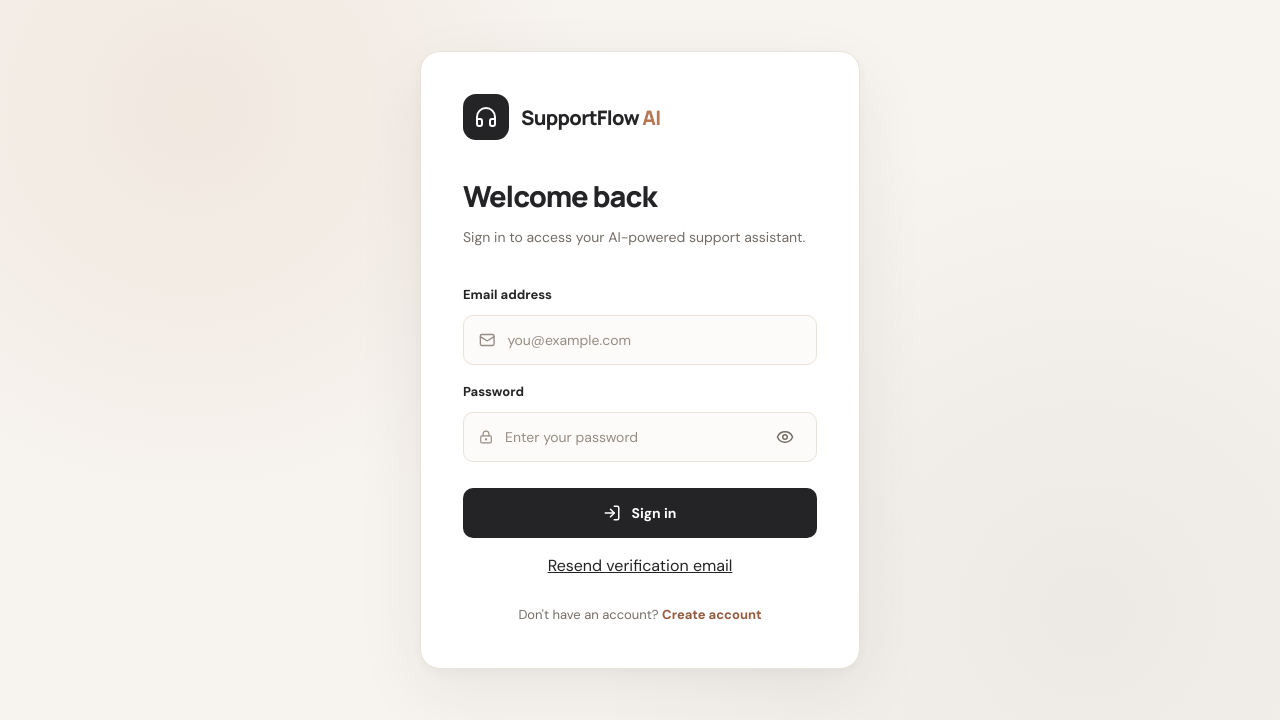
Test: Login and email verification resend › blocks unverified customers from opening chat
Type "customer@example.com" into the field labelled "Email address" at (654, 340), box [507, 318, 801, 362]
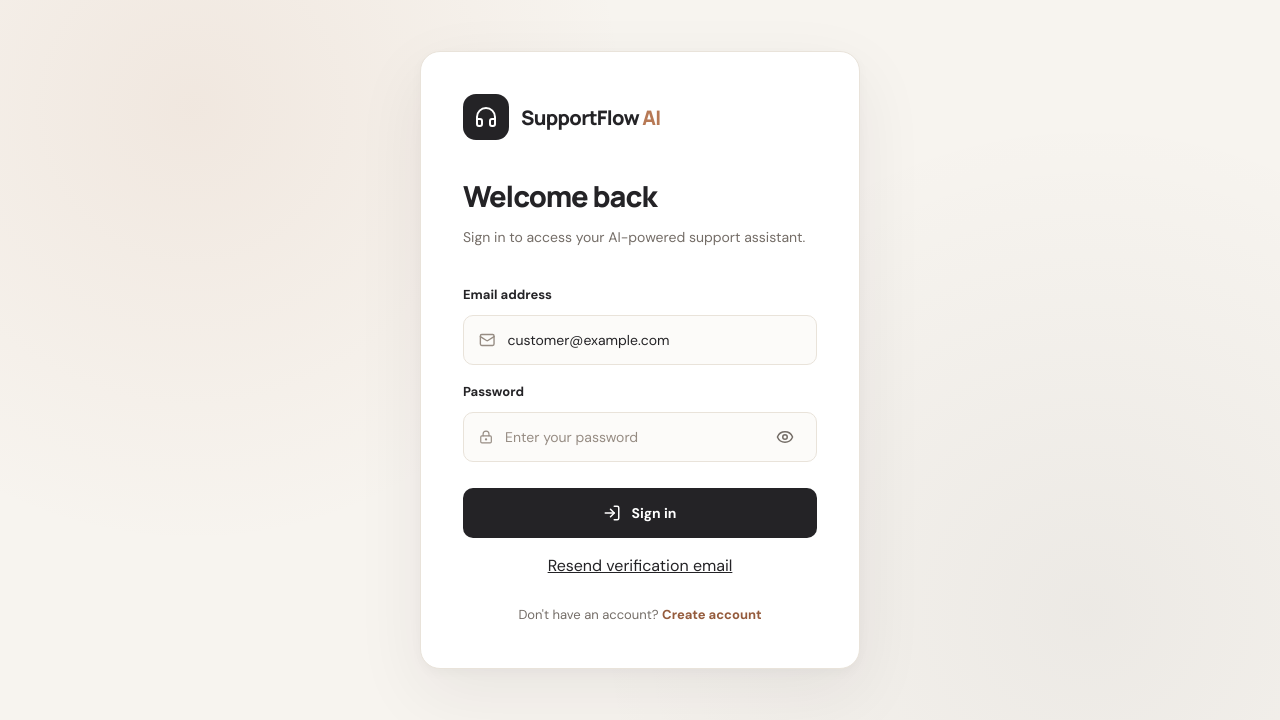
Type "StrongPass123!" into the password field labelled "Password" at (631, 437), box [505, 415, 757, 459]
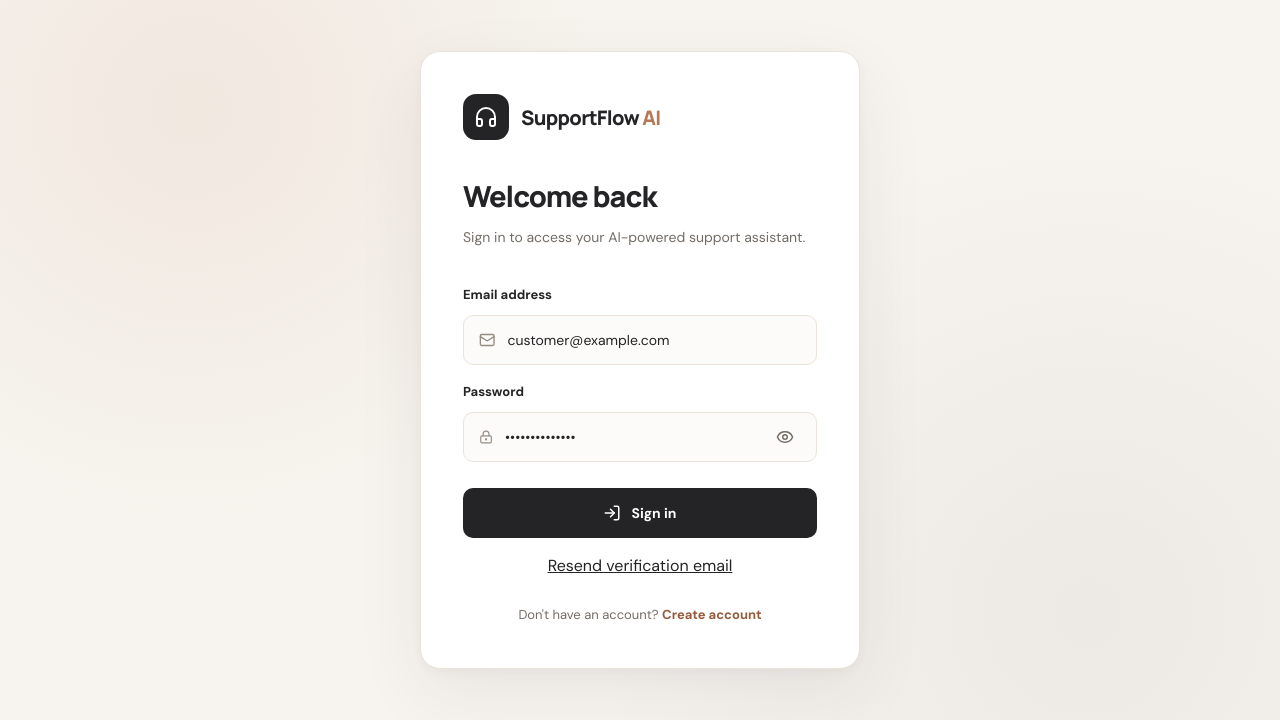
Click the button "Sign in" at (640, 513), box [463, 488, 817, 538]
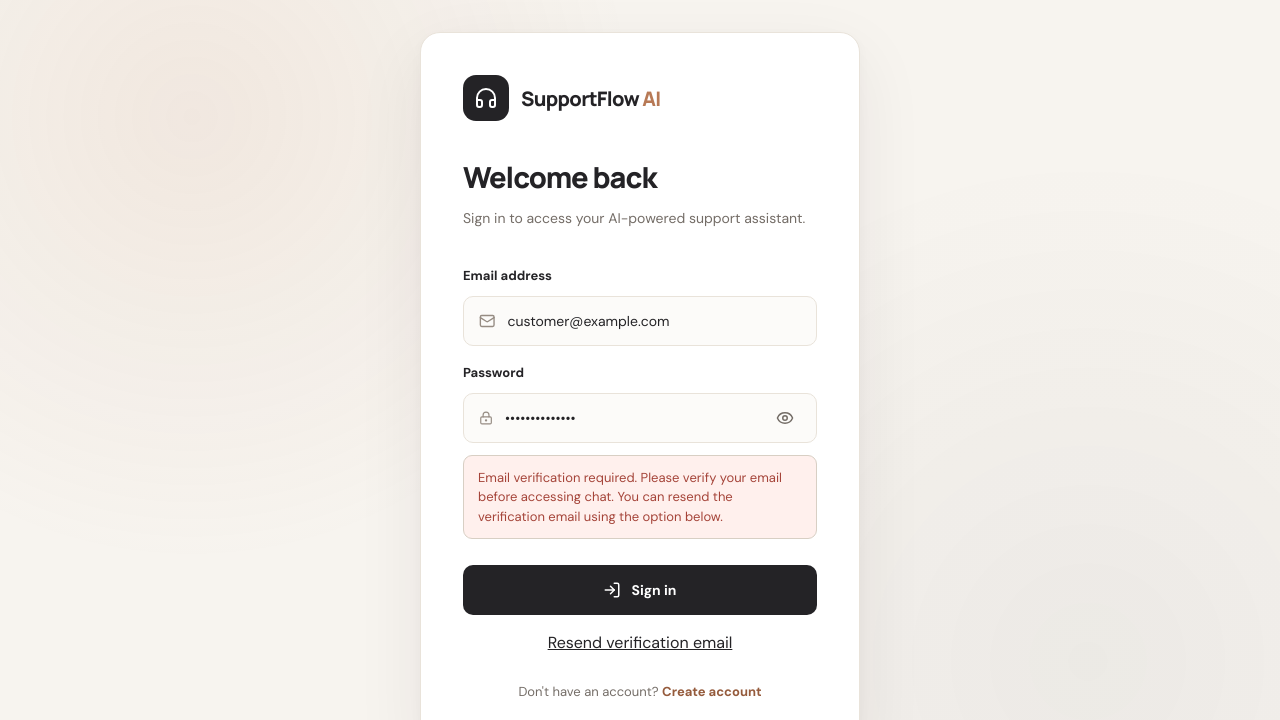
Expected: the button "Resend verification email" is shown, [542, 631, 738, 654]
Now the message shows "Email verification required", box [478, 469, 782, 525]
